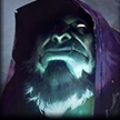Yorick: (1, 1, 120, 116)
